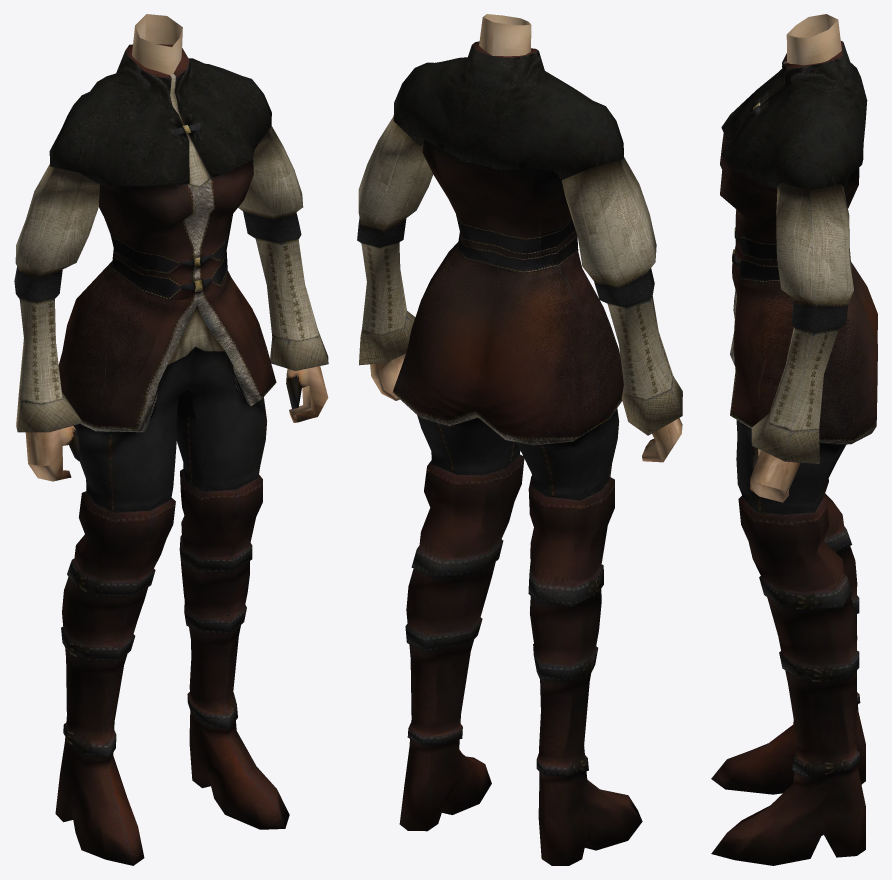
File: STROJ_KOBIECY_BRAZOWY_01.glb
The picture shows the model from 3 angles, left to right: view 1: azimuth 30°, elevation 25°; view 2: azimuth 150°, elevation 25°; view 3: azimuth 270°, elevation 25°; orthographic projection. The views are drawn at different scales.
Parts seen in each view (by area): view 1: STROJ_KOBIECY_BRAZOWY_01; view 2: STROJ_KOBIECY_BRAZOWY_01; view 3: STROJ_KOBIECY_BRAZOWY_01.
Part boxes in pixels (x1,y1,x2,y2): STROJ_KOBIECY_BRAZOWY_01: (14,14,328,865); STROJ_KOBIECY_BRAZOWY_01: (357,14,682,865); STROJ_KOBIECY_BRAZOWY_01: (711,14,877,865).
Bounding box in the file's own units: 0.6925 × 1.68 × 0.3182.
Materials: 2 (2 with a texture image).
